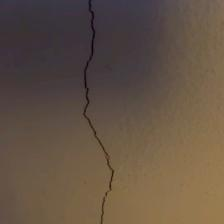Medium: (54, 3, 146, 213)
